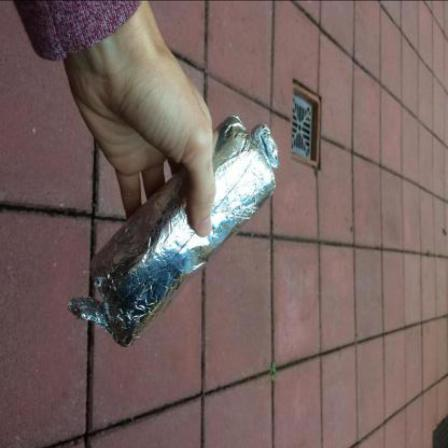Aluminium foil: (69, 115, 281, 348)
